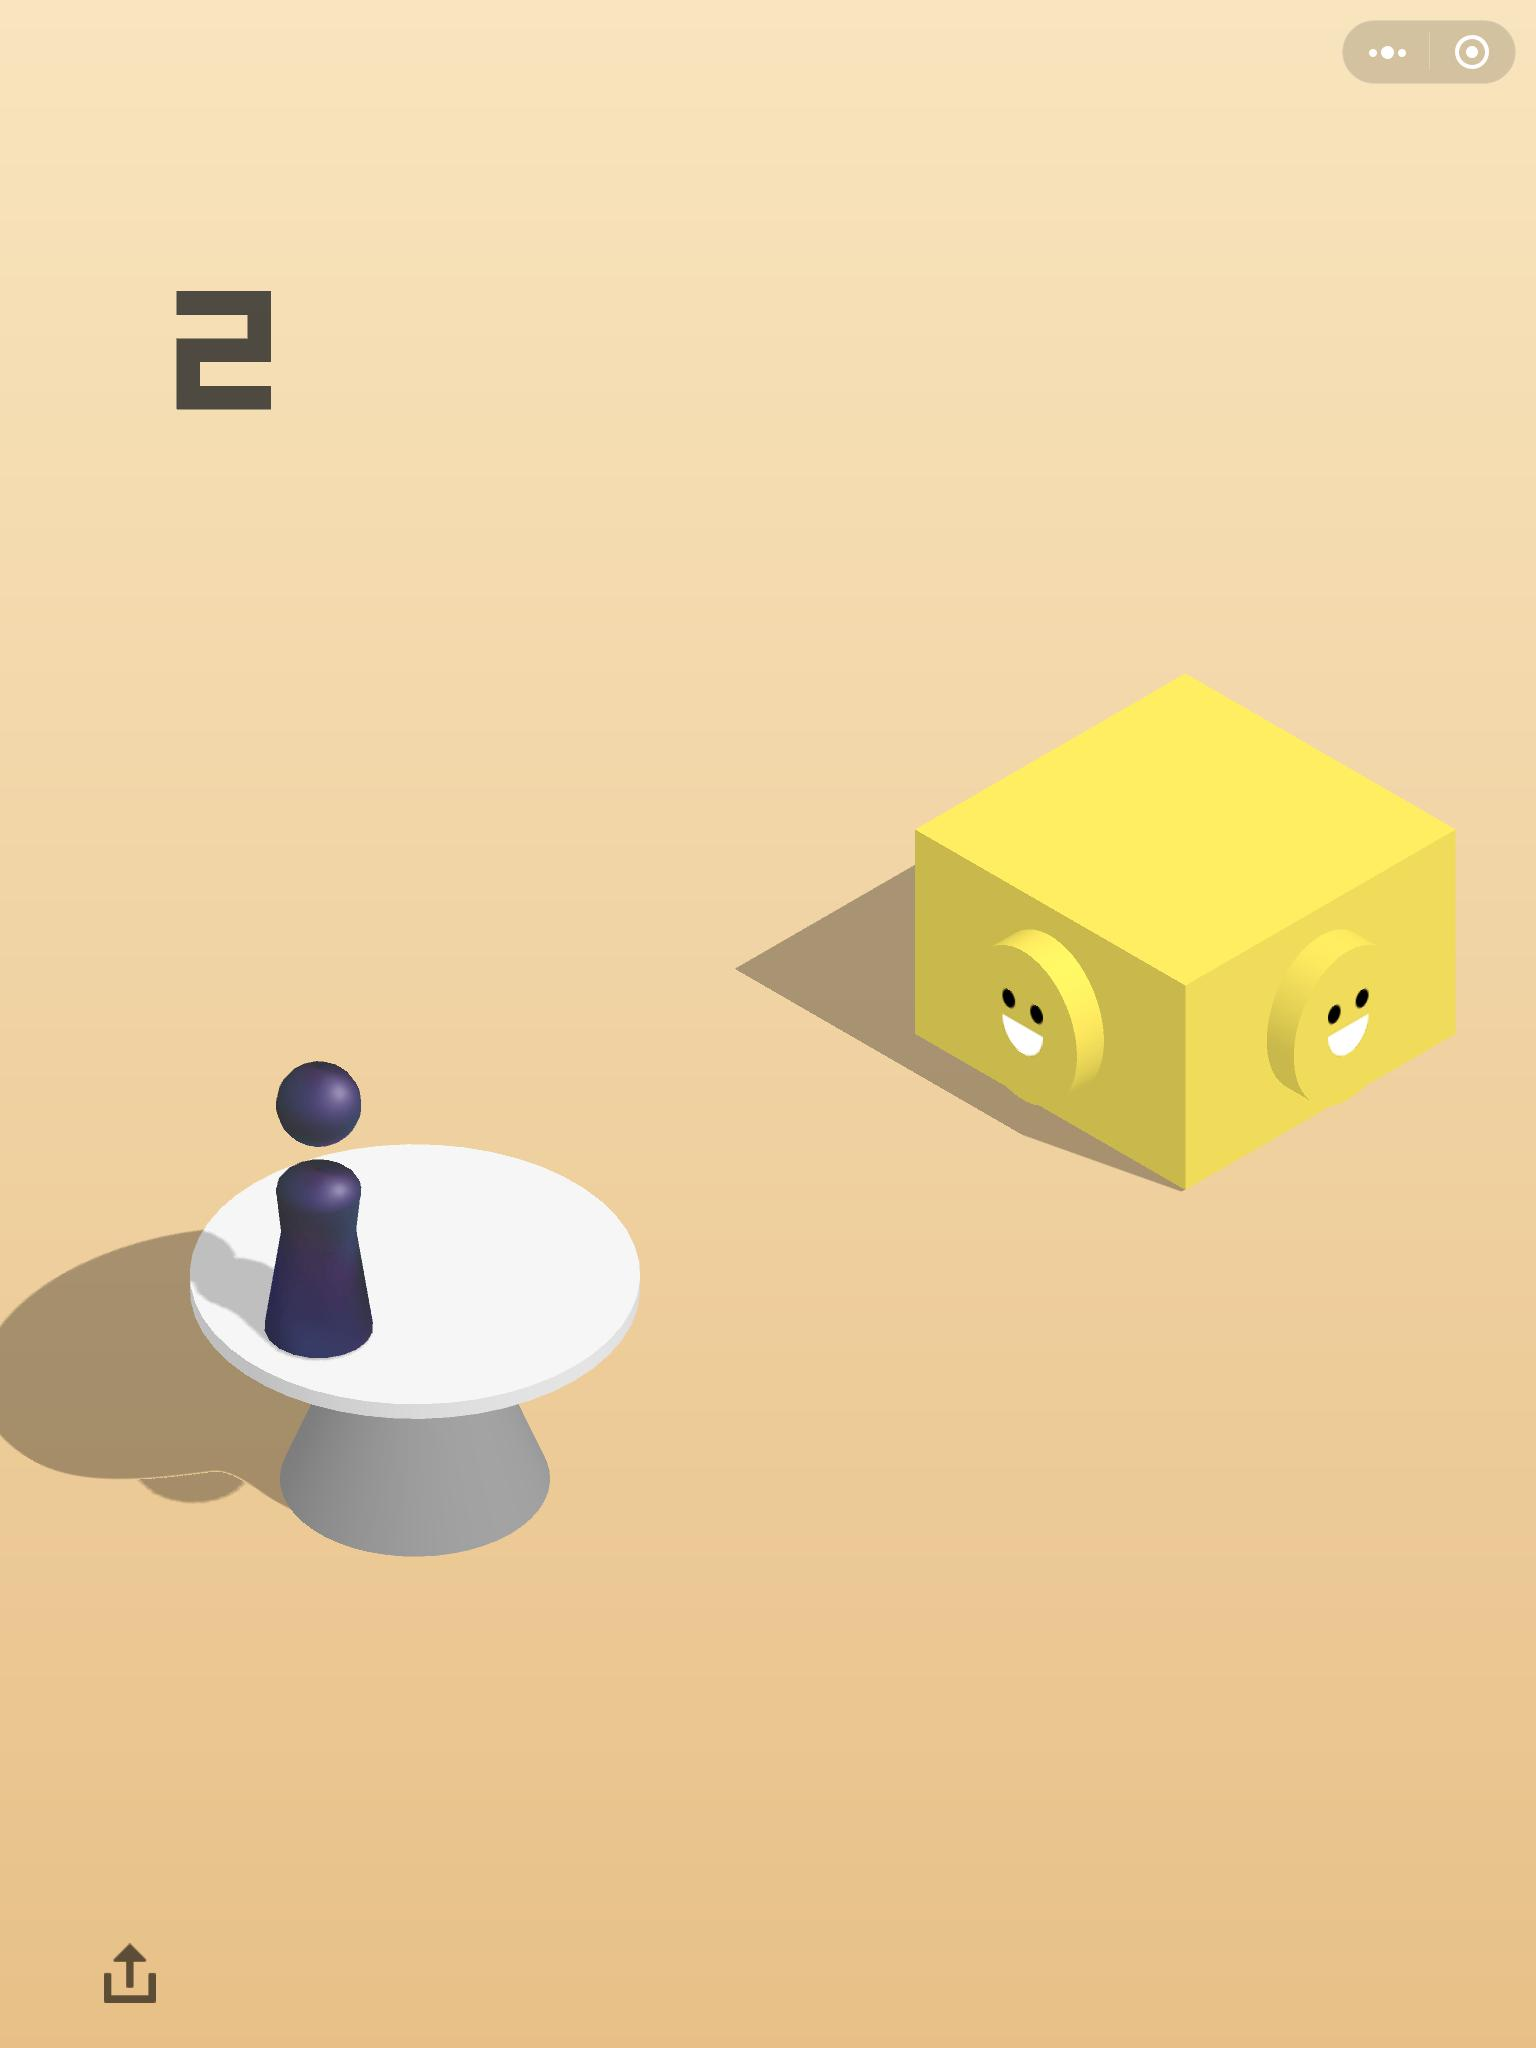c: (177, 1124, 649, 1572)
f: (891, 664, 1465, 1200)
r: (252, 1045, 382, 1367)
